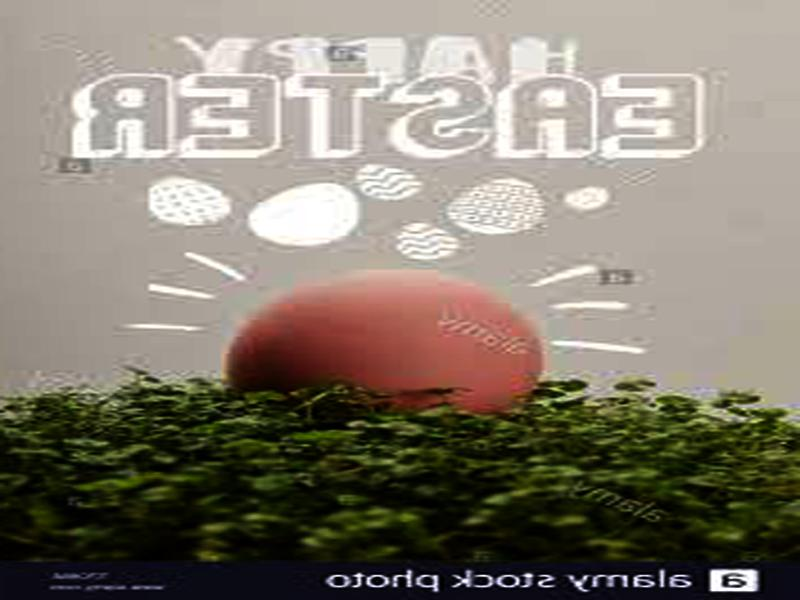Eggs: (220, 272, 537, 415)
